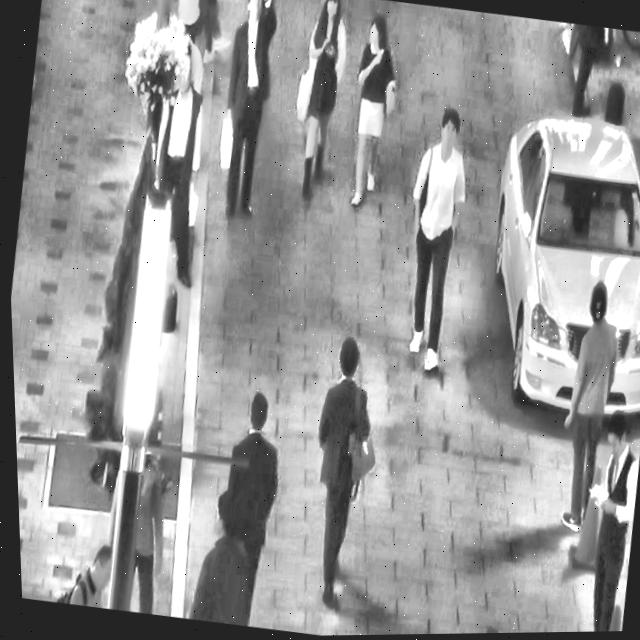light_vehicle: (459, 90, 640, 436)
